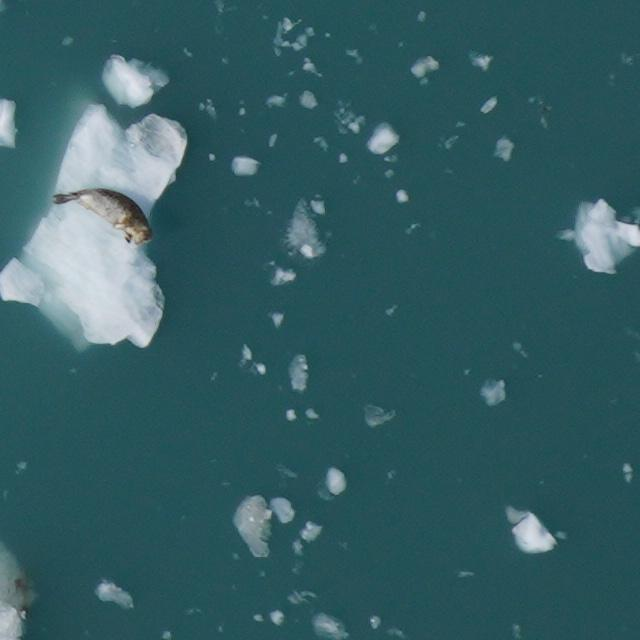seal: (52, 187, 154, 243)
